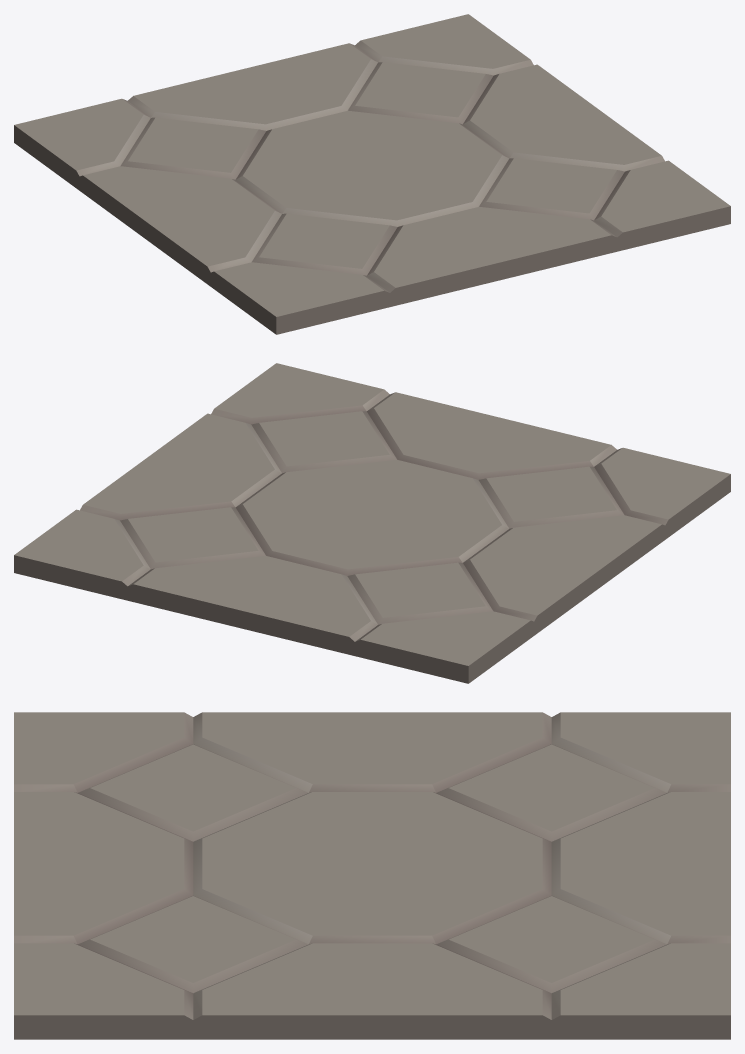
Rendered from floor_tile_large.obj.
The picture shows the model from 3 angles, top to bottom: view 1: azimuth 30°, elevation 25°; view 2: azimuth 150°, elevation 25°; view 3: azimuth 270°, elevation 25°; orthographic projection. The views are drawn at different scales.
Visible parts, largest first — view 1: floor_tile_large; view 2: floor_tile_large; view 3: floor_tile_large.
Boxes of the visible parts, left/top/right/bottom form: floor_tile_large: left=14, top=14, right=730, bottom=334; floor_tile_large: left=14, top=363, right=730, bottom=683; floor_tile_large: left=14, top=712, right=730, bottom=1039.
Bounding box in the file's own units: 4 × 0.15 × 4.
Materials: 1 (1 with a texture image).
